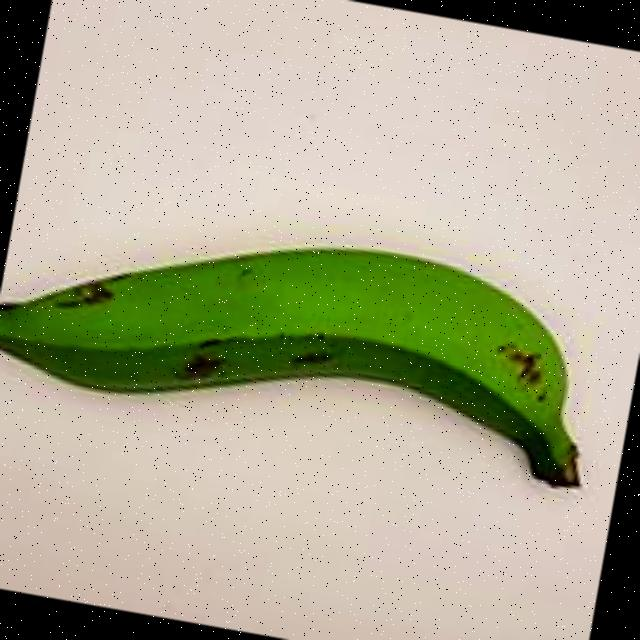Raw: (0, 135, 634, 536)
